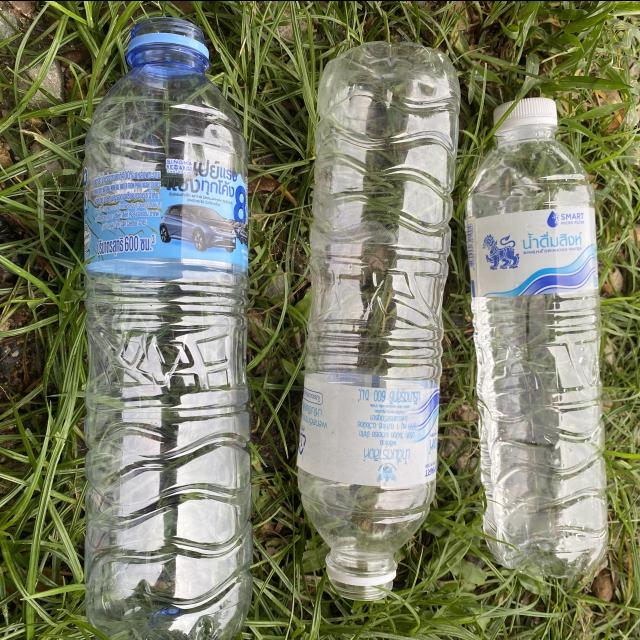plastik: (84, 16, 252, 640), (298, 42, 460, 599), (465, 98, 608, 575)
